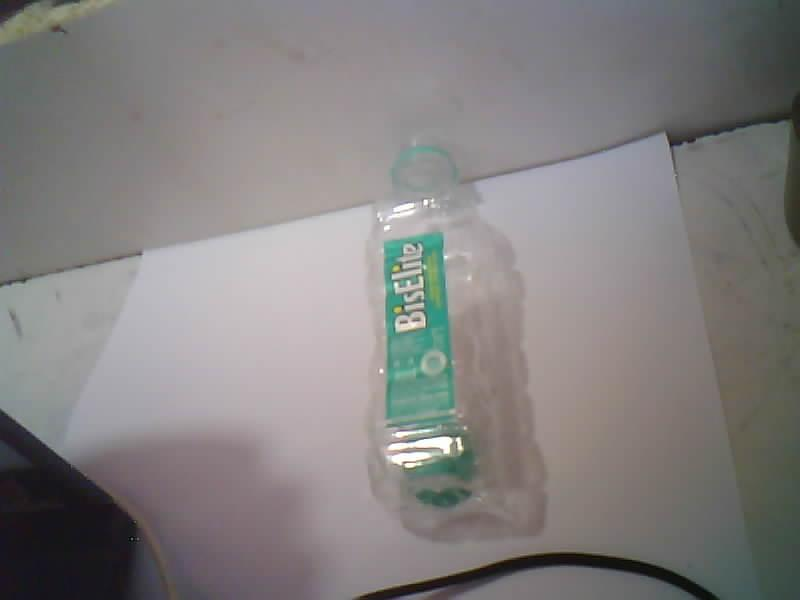non-biodegradable: (368, 145, 544, 540)
